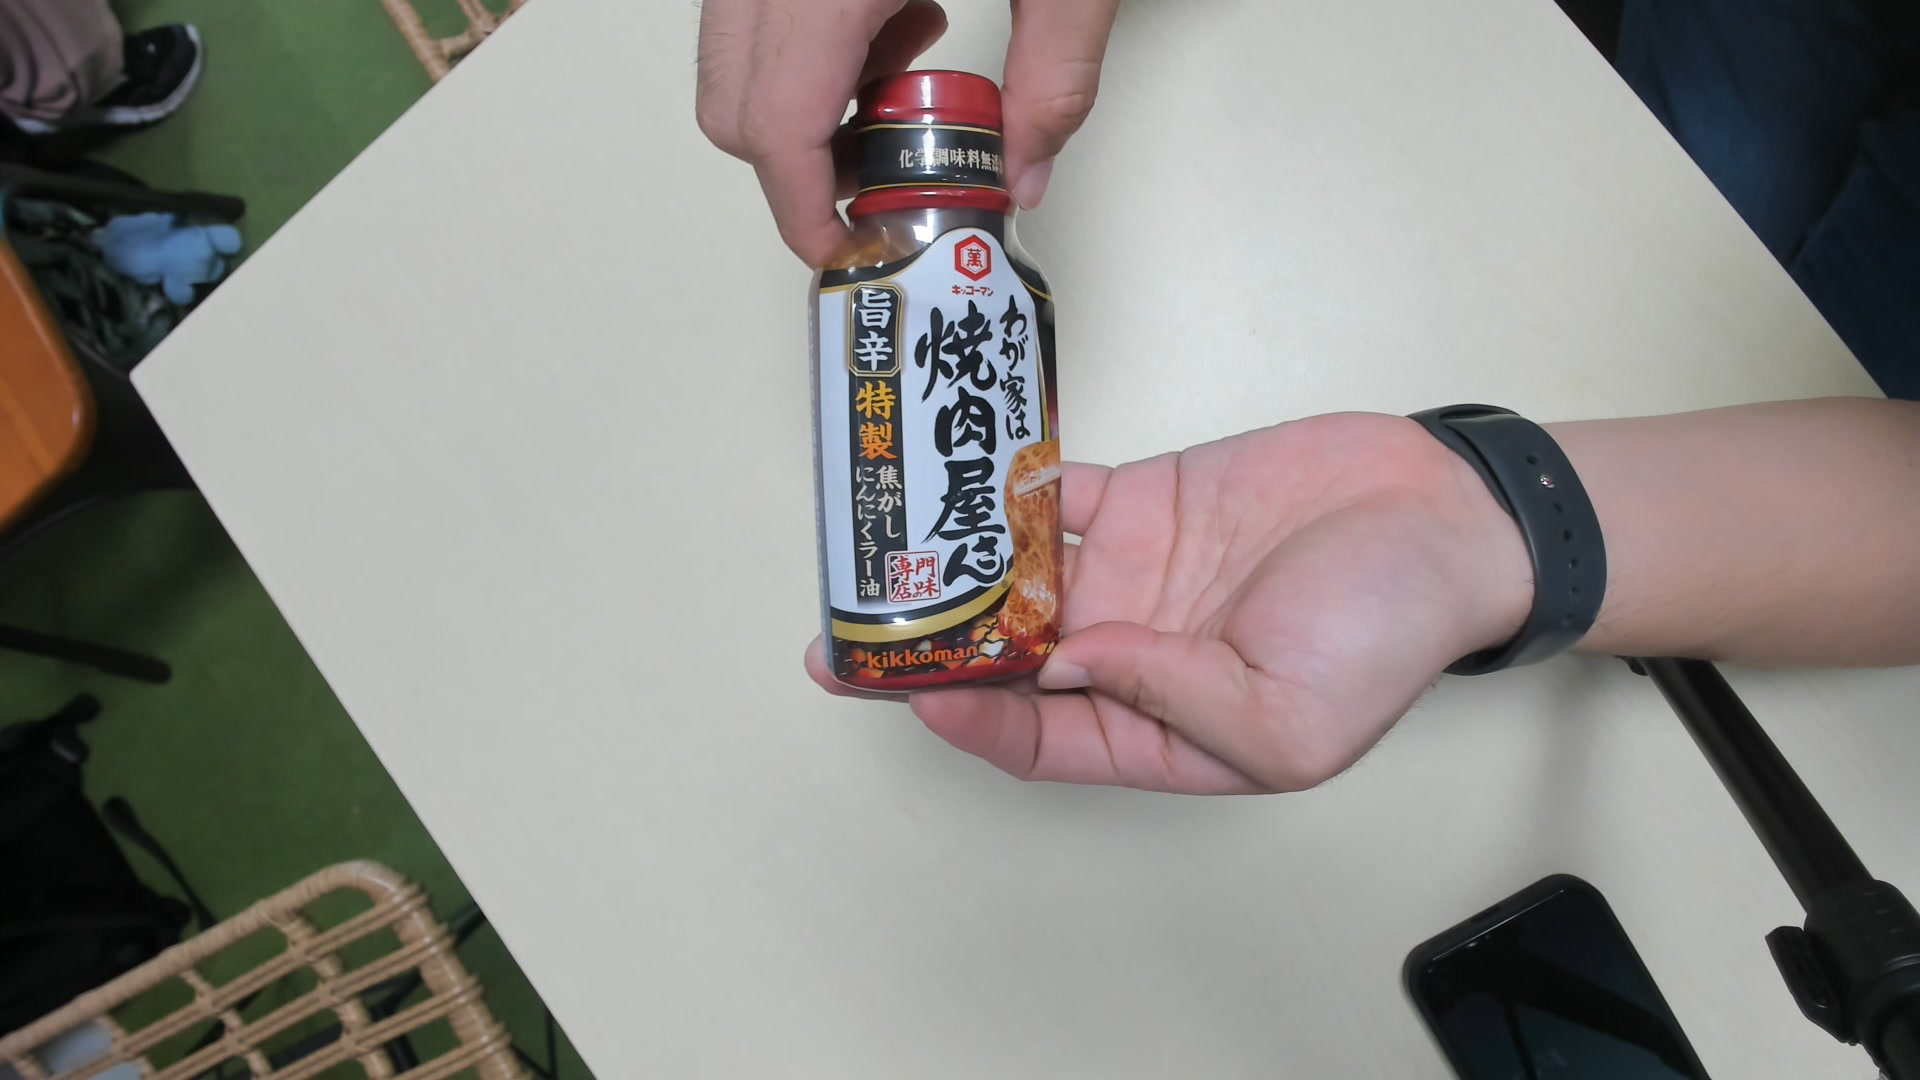OtherSauceDressing_200-299g_NonHalal_NonHealthy: (818, 75, 1055, 688)
